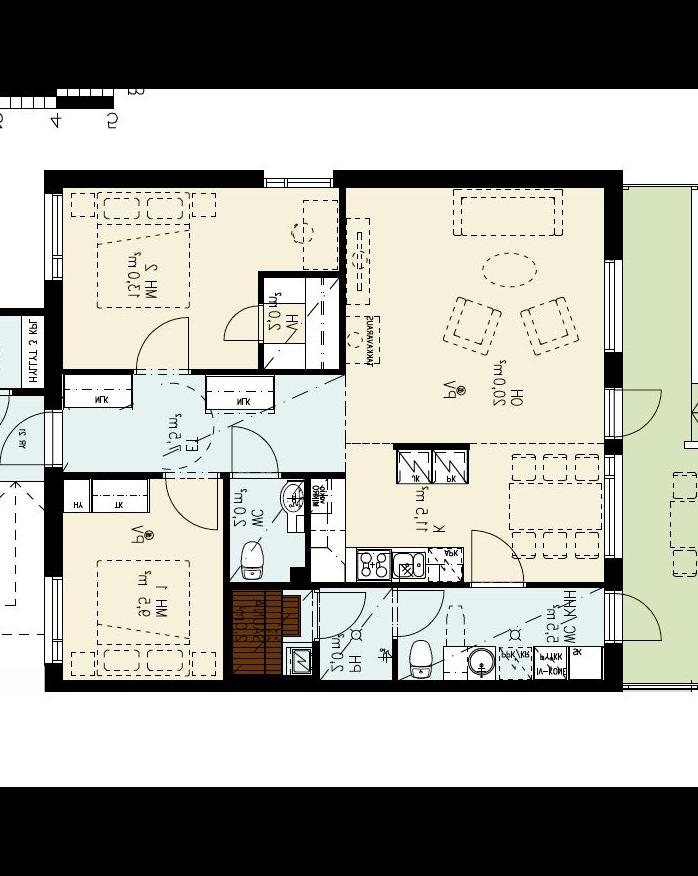bathroom: (394, 584, 608, 680), (228, 478, 306, 584)
door: (461, 523, 528, 595), (158, 468, 223, 534), (132, 314, 194, 383), (0, 406, 67, 469), (598, 382, 665, 440), (600, 588, 666, 646), (223, 421, 284, 483), (387, 584, 446, 642), (310, 587, 366, 645), (222, 298, 276, 344), (0, 383, 13, 451)
perimeter: (0, 169, 624, 693)
window: (592, 446, 626, 562), (594, 249, 628, 361), (37, 568, 66, 670), (34, 187, 63, 287), (258, 165, 338, 193)
